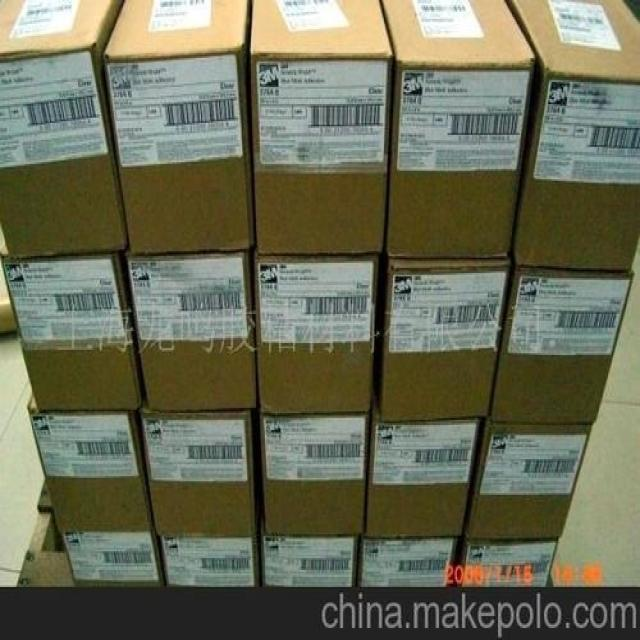box: (382, 1, 539, 257), (102, 0, 253, 255), (251, 2, 392, 254), (510, 1, 639, 269), (1, 0, 126, 257), (24, 391, 165, 586), (0, 239, 145, 411), (138, 395, 261, 586), (374, 257, 511, 420), (124, 248, 259, 412), (491, 268, 634, 422), (253, 255, 376, 411), (362, 400, 480, 538), (464, 418, 593, 538), (260, 413, 371, 536), (263, 527, 363, 586), (451, 538, 558, 585), (359, 538, 458, 586)
